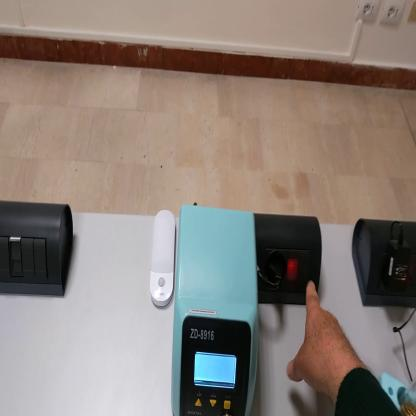hand: (286, 279, 354, 396)
socket: (256, 213, 324, 306), (353, 212, 416, 310)
welder base: (381, 368, 416, 416)
welder station: (174, 205, 260, 415)
